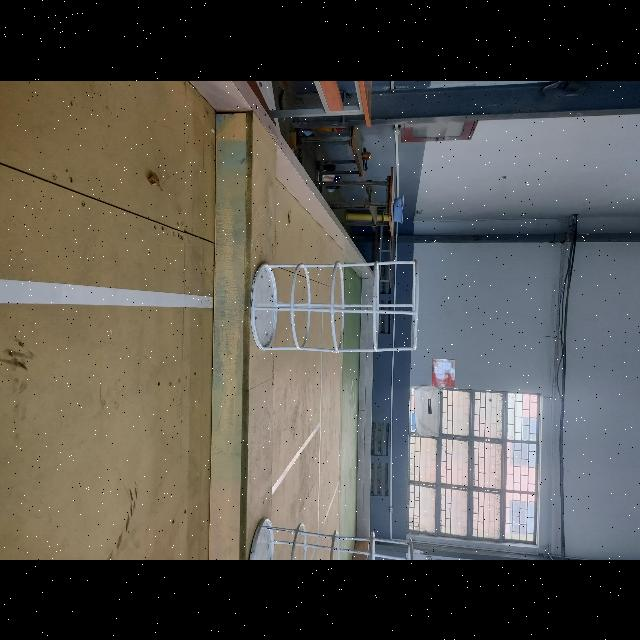S: (250, 257, 420, 354), (250, 516, 414, 560)
